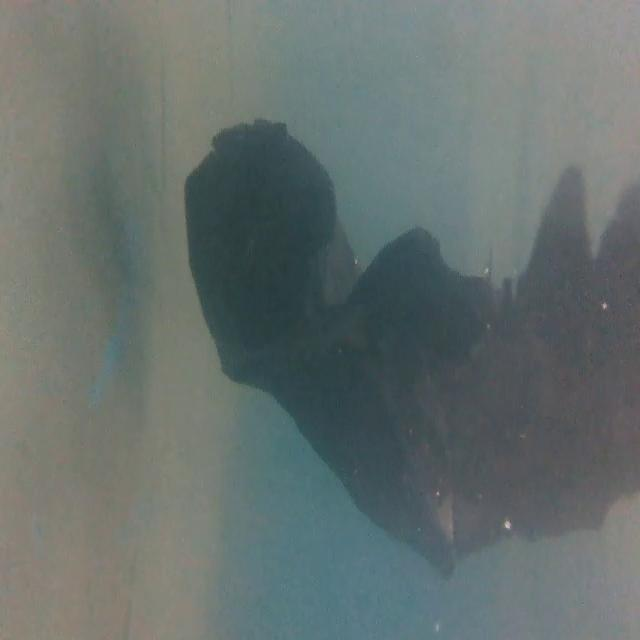plastic bags: (183, 117, 640, 574)
